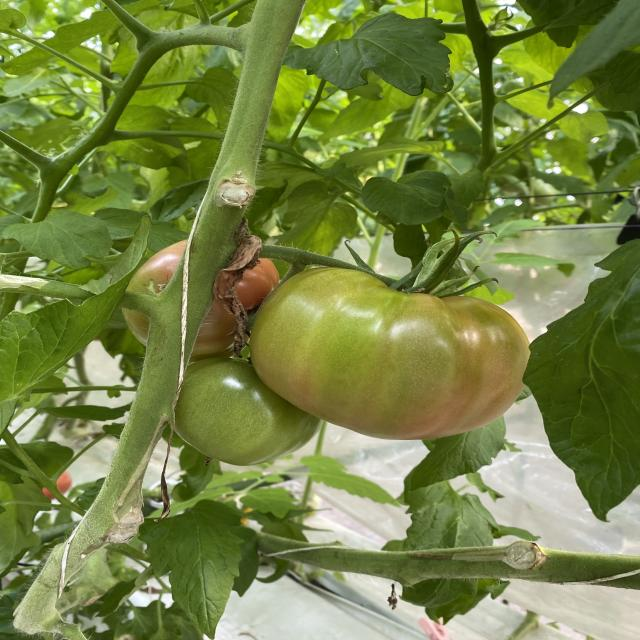yesil: (152, 250, 527, 440)
